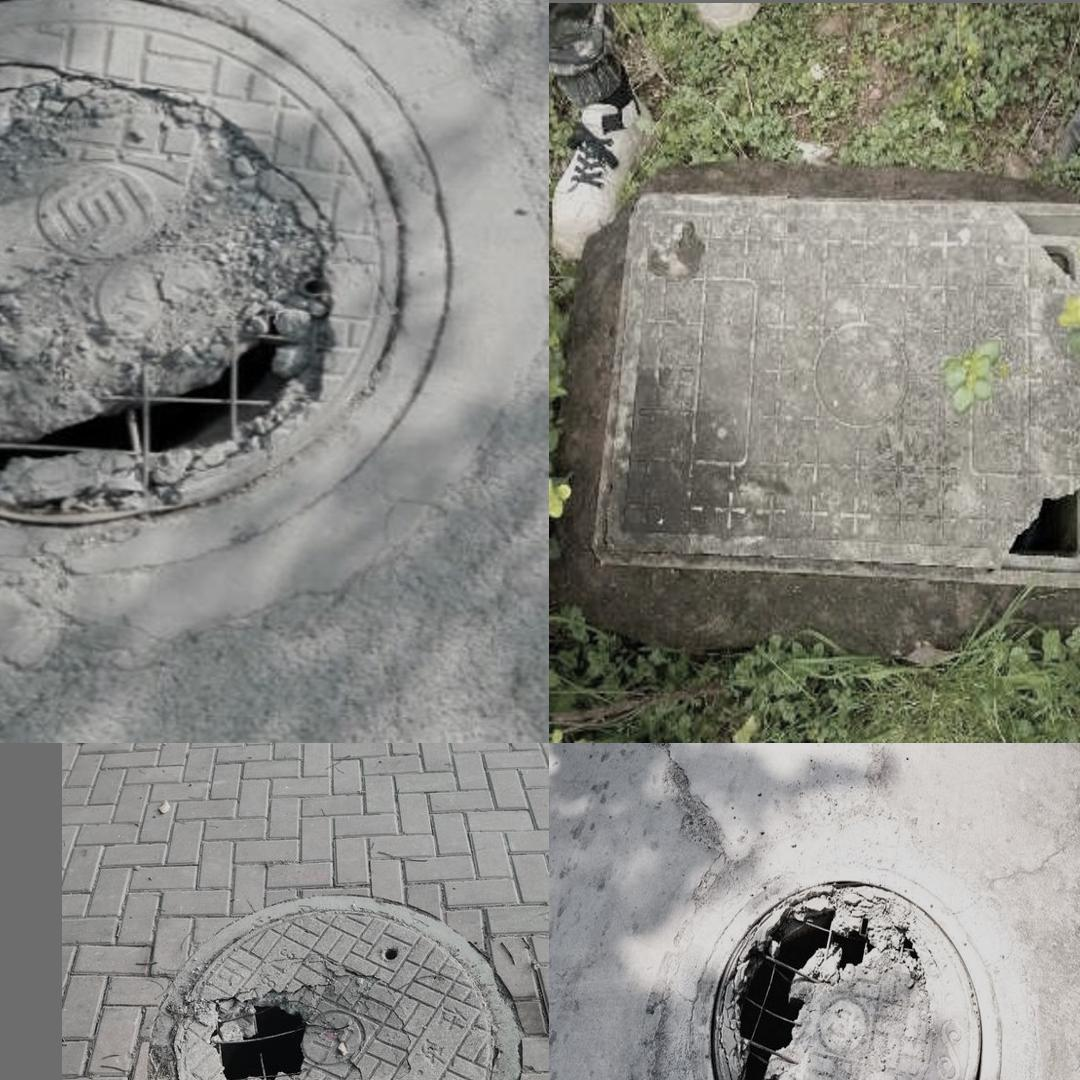broke: (0, 0, 449, 568), (600, 205, 1080, 563), (630, 846, 1055, 1080), (136, 881, 528, 1080)
